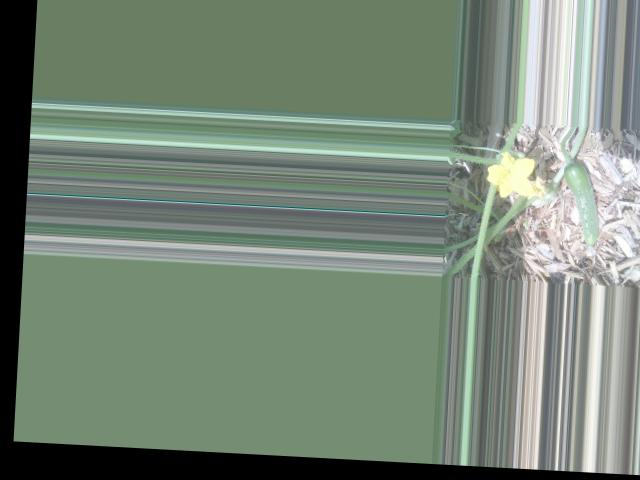cucumber: (559, 160, 603, 254)
